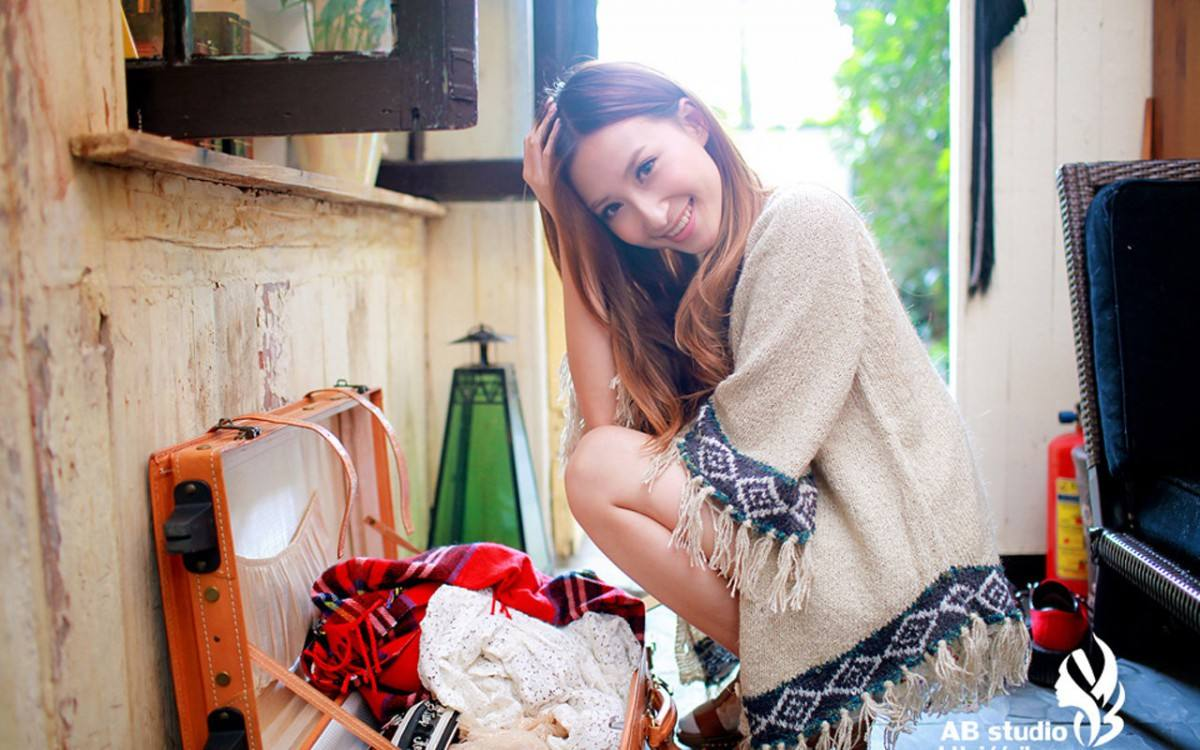person: (426, 71, 1034, 699)
